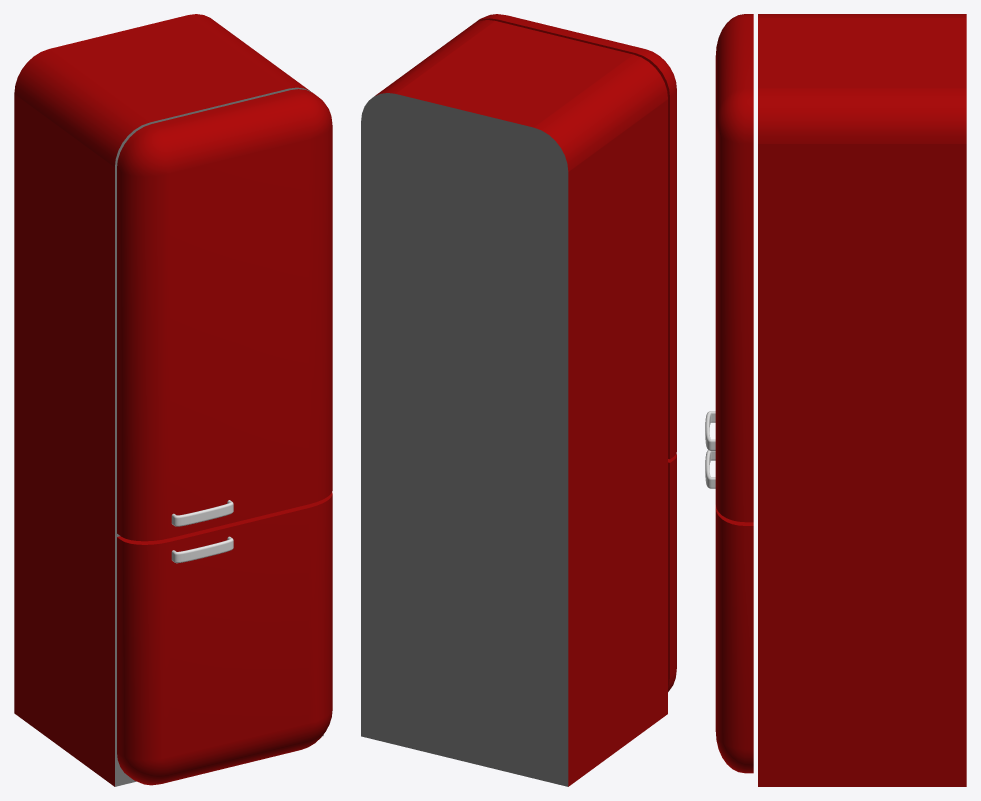
Rendered from lp-frigo.glb.
The picture shows the model from 3 angles, left to right: view 1: azimuth 30°, elevation 25°; view 2: azimuth 150°, elevation 25°; view 3: azimuth 270°, elevation 25°; orthographic projection. The views are drawn at different scales.
Parts seen in each view (by area): view 1: ChamferBox03_3, Rectangle12_4, Rectangle1218_5, Loft12_1, Loft13_2; view 2: Rectangle1218_5, Rectangle12_4, ChamferBox03_3; view 3: Rectangle12_4, ChamferBox03_3.
Boxes of the visible parts, x1=… form: ChamferBox03_3: x1=117, y1=89, x2=332, y2=785; Rectangle12_4: x1=14, y1=14, x2=309, y2=786; Rectangle1218_5: x1=115, y1=87, x2=323, y2=786; Loft12_1: x1=171, y1=536, x2=233, y2=563; Loft13_2: x1=171, y1=500, x2=233, y2=526; Rectangle1218_5: x1=361, y1=93, x2=568, y2=786; Rectangle12_4: x1=375, y1=20, x2=667, y2=786; ChamferBox03_3: x1=475, y1=14, x2=676, y2=691; Rectangle12_4: x1=758, y1=14, x2=966, y2=786; ChamferBox03_3: x1=715, y1=14, x2=753, y2=773.
Size of the model in its own units: 0.6001 by 1.8 by 0.626.
